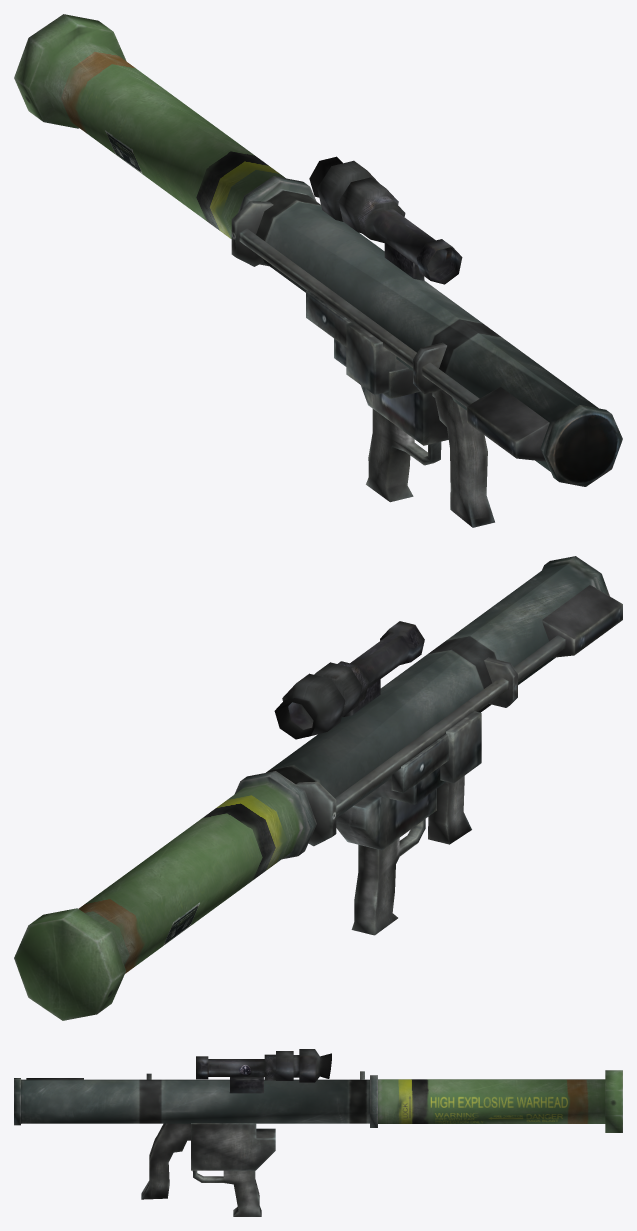
Rendered from SMAW_with_scope1.fbx.
3 views of the same model, one above another, from view 1: azimuth 30°, elevation 25°; view 2: azimuth 150°, elevation 25°; view 3: azimuth 270°, elevation 25° (orthographic). The views are drawn at different scales.
Visible parts, largest first — view 1: SMAW, SMAW.001; view 2: SMAW, SMAW.001; view 3: SMAW, SMAW.001, SMAW.002.
Part boxes in pixels (x1,y1,x2,y2): SMAW: [14, 14, 622, 527]; SMAW.001: [309, 156, 462, 284]; SMAW: [14, 556, 622, 1020]; SMAW.001: [274, 621, 424, 739]; SMAW: [14, 1070, 622, 1216]; SMAW.001: [196, 1049, 331, 1082]; SMAW.002: [229, 1077, 263, 1093].
Bounding box in the file's own units: 19.2 × 47.81 × 161.
1 material, 1 textured.
